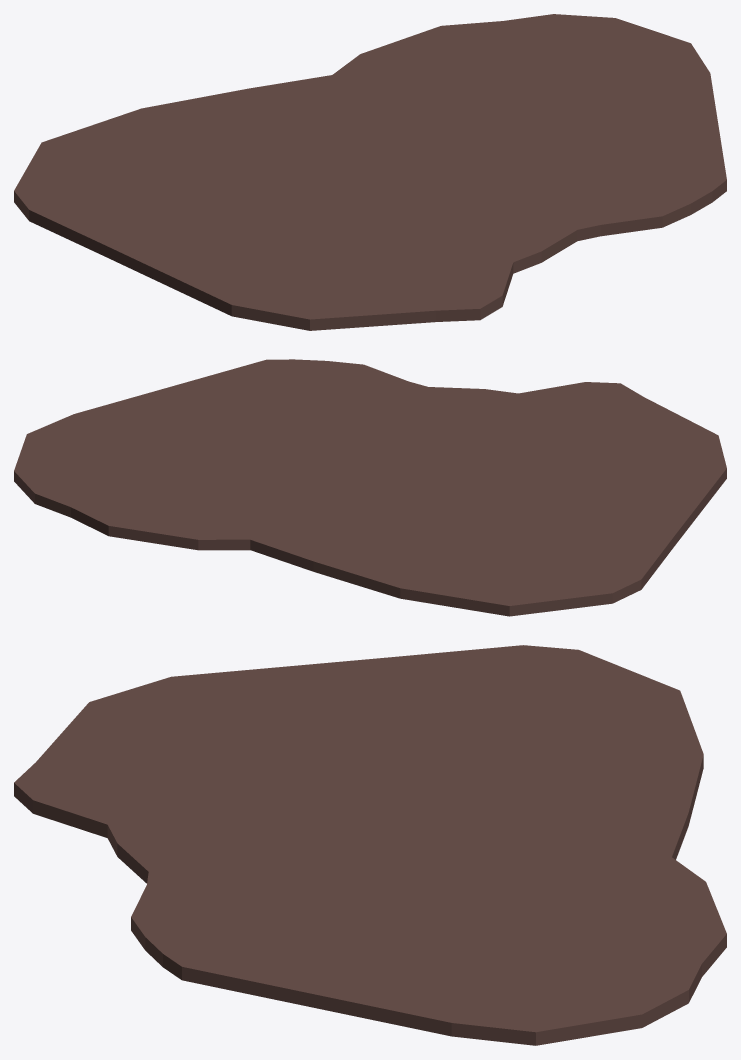
File: Sand 24.FBX
3 renders of one model, top to bottom at view 1: azimuth 30°, elevation 25°; view 2: azimuth 150°, elevation 25°; view 3: azimuth 270°, elevation 25°, orthographic. The views are drawn at different scales.
Parts seen in each view (by area): view 1: Plane001; view 2: Plane001; view 3: Plane001.
Part boxes in pixels (x1=…): Plane001: x1=14, y1=14, x2=726, y2=330; Plane001: x1=14, y1=359, x2=726, y2=616; Plane001: x1=14, y1=645, x2=726, y2=1045.
Size of the model in its own units: 133 by 2.18 by 104.
